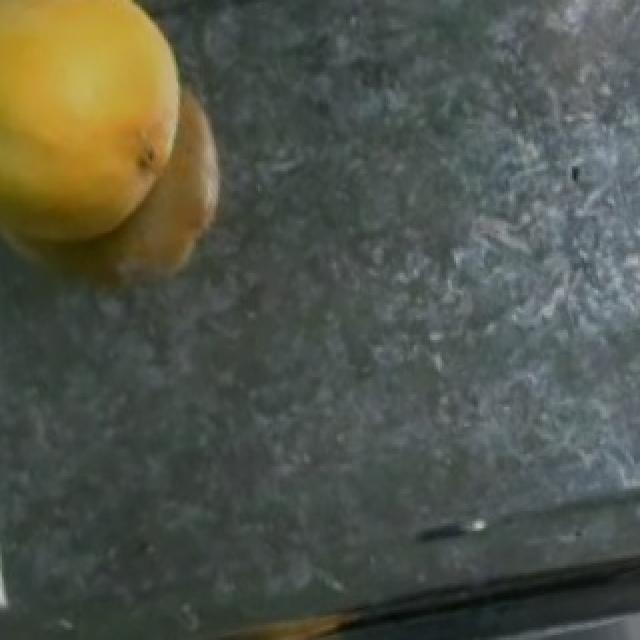fruit: (0, 0, 256, 280)
